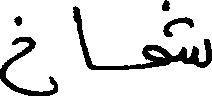X: (0, 11, 35, 95), (144, 0, 169, 73), (182, 12, 211, 72), (74, 1, 91, 74)
